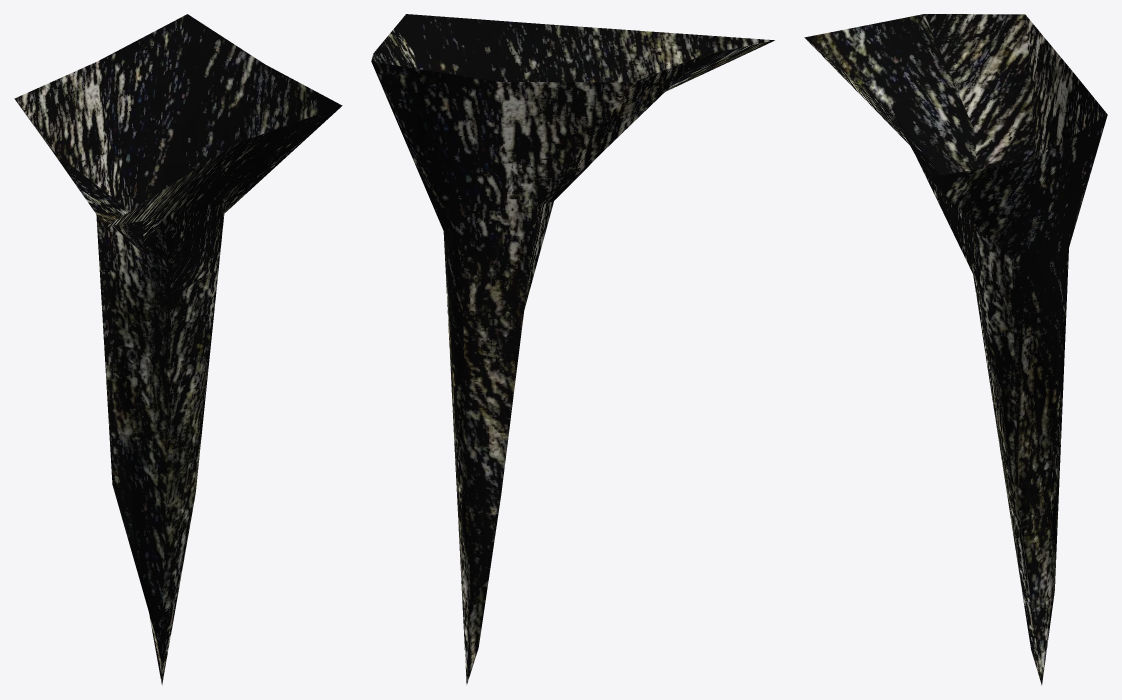
The model's file is NW_DRAGONISLE_STALAGTITE_04.glb.
3 views of the same model, side by side, from view 1: azimuth 30°, elevation 25°; view 2: azimuth 150°, elevation 25°; view 3: azimuth 270°, elevation 25° (orthographic). The views are drawn at different scales.
Visible parts, largest first — view 1: Mesh; view 2: Mesh; view 3: Mesh.
Boxes of the visible parts, x1,y1,x2,y2 form: Mesh: [14, 14, 342, 684]; Mesh: [371, 14, 774, 684]; Mesh: [804, 14, 1107, 685].
Bounding box in the file's own units: 3.17 × 6.33 × 2.9.
1 material, 1 textured.
